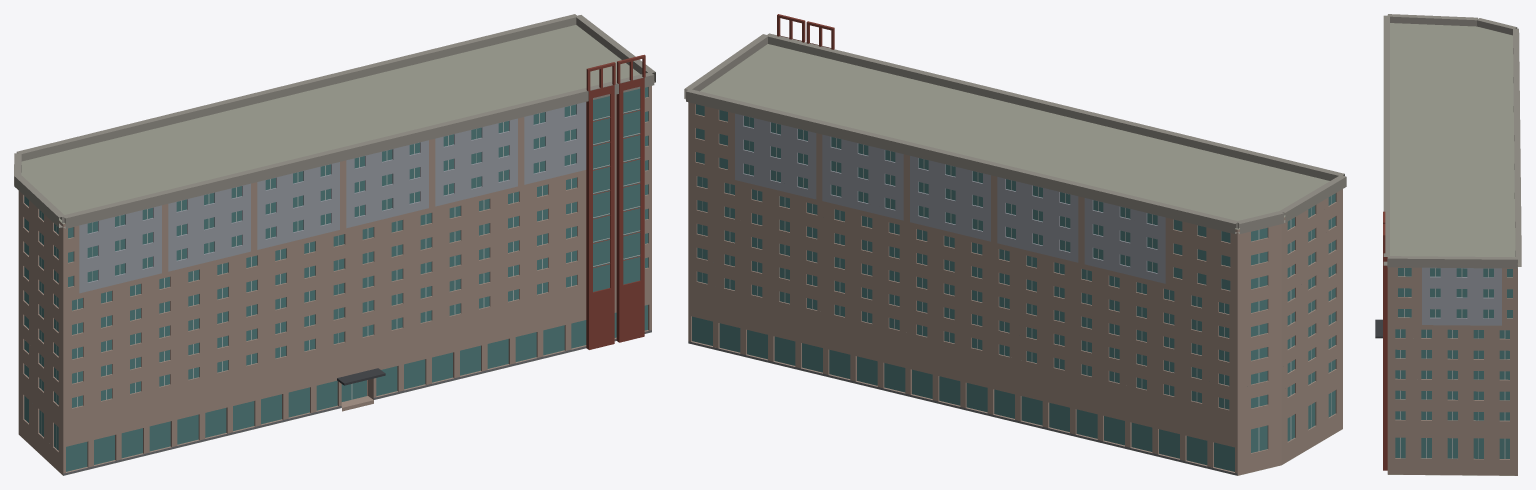
3 views of the same model, side by side, from view 1: azimuth 30°, elevation 25°; view 2: azimuth 150°, elevation 25°; view 3: azimuth 270°, elevation 25° (orthographic). The views are drawn at different scales.
Parts seen in each view (by area): view 1: facility-1436367101__wall, facility-1436367101__roof, facility-1436367101__glass, facility-1436367101__wall2, facility-1436367101__trim, facility-1436367101__brick, facility-1436367101__frame, facility-1436367101__base; view 2: facility-1436367101__wall, facility-1436367101__roof, facility-1436367101__glass, facility-1436367101__wall2, facility-1436367101__trim, facility-1436367101__frame, facility-1436367101__base, facility-1436367101__brick; view 3: facility-1436367101__roof, facility-1436367101__wall, facility-1436367101__trim, facility-1436367101__glass, facility-1436367101__wall2, facility-1436367101__brick, facility-1436367101__frame.
Part boxes in pixels (x1,y1,x2,y2): facility-1436367101__wall: (18,86,651,475); facility-1436367101__roof: (20,25,649,475); facility-1436367101__glass: (24,87,648,471); facility-1436367101__wall2: (79,102,586,293); facility-1436367101__trim: (14,14,655,228); facility-1436367101__brick: (586,54,645,349); facility-1436367101__frame: (41,106,640,449); facility-1436367101__base: (63,330,651,475); facility-1436367101__wall: (688,102,1342,475); facility-1436367101__roof: (688,44,1342,475); facility-1436367101__glass: (692,104,1335,471); facility-1436367101__wall2: (735,113,1165,283); facility-1436367101__trim: (684,33,1346,233); facility-1436367101__frame: (702,117,1331,450); facility-1436367101__base: (688,341,1237,475); facility-1436367101__brick: (777,14,834,49); facility-1436367101__roof: (1388,23,1515,475); facility-1436367101__wall: (1387,264,1517,475); facility-1436367101__trim: (1383,14,1521,268); facility-1436367101__glass: (1395,268,1512,458); facility-1436367101__wall2: (1422,267,1501,325); facility-1436367101__brick: (1383,211,1387,470); facility-1436367101__frame: (1400,268,1505,458).
Size of the model in its own units: 75.42 by 34.14 by 19.
